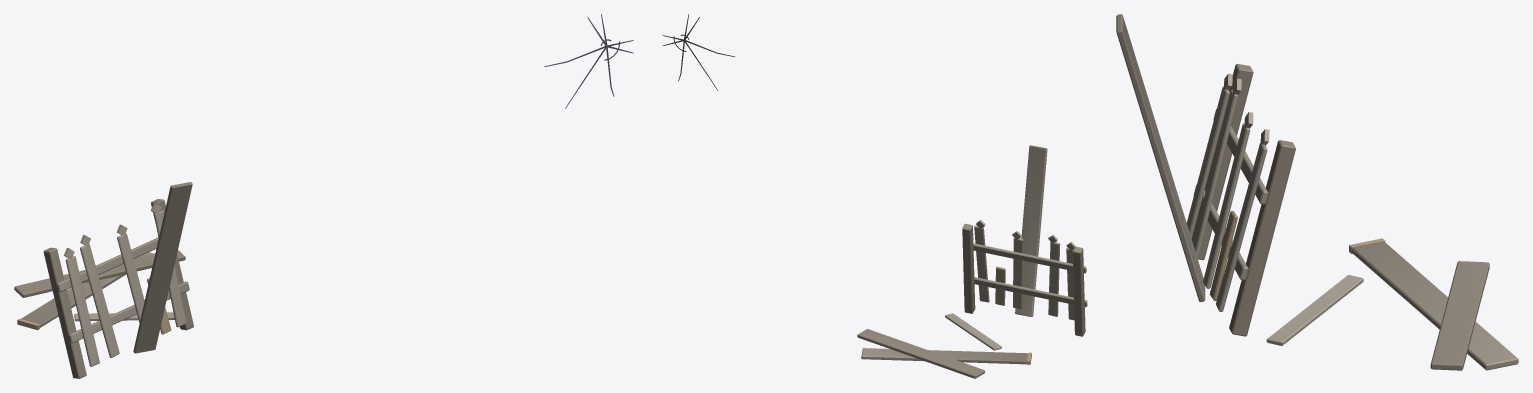
The model's file is house_worn_hut.glb.
3 views of the same model, side by side, from view 1: azimuth 30°, elevation 25°; view 2: azimuth 150°, elevation 25°; view 3: azimuth 270°, elevation 25° (orthographic). The views are drawn at different scales.
Size of the model in its own units: 4.45 by 1.98 by 1.86.
